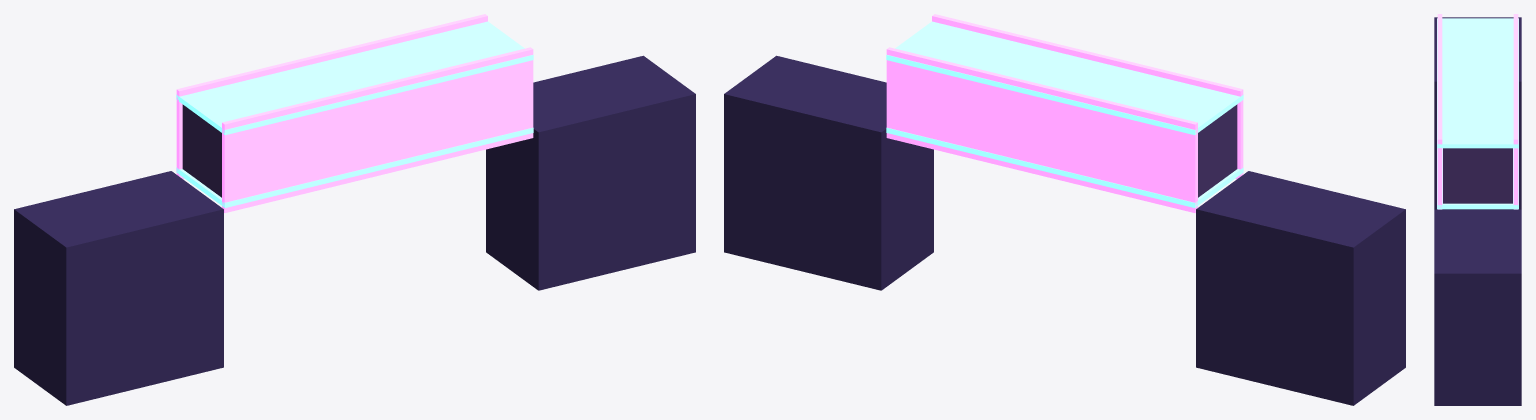
Rendered from 09_transit_tube_connector.glb.
3 renders of one model, left to right at view 1: azimuth 30°, elevation 25°; view 2: azimuth 150°, elevation 25°; view 3: azimuth 270°, elevation 25°, orthographic. The views are drawn at different scales.
Parts seen in each view (by area): view 1: dock_left_0, dock_right_1, tube_side_glow_6, tube_top_glow_3, tube_side_glow_5, tube_core_2, tube_bottom_glow_4; view 2: dock_left_0, dock_right_1, tube_side_glow_5, tube_top_glow_3, tube_side_glow_6, tube_core_2, tube_bottom_glow_4; view 3: dock_right_1, tube_top_glow_3, tube_core_2, dock_left_0, tube_side_glow_6, tube_side_glow_5, tube_bottom_glow_4.
Part boxes in pixels (x1=…): dock_left_0: x1=14, y1=171, x2=223, y2=405; dock_right_1: x1=486, y1=55, x2=695, y2=290; tube_side_glow_6: x1=222, y1=47, x2=533, y2=212; tube_top_glow_3: x1=176, y1=21, x2=533, y2=135; tube_side_glow_5: x1=176, y1=14, x2=487, y2=178; tube_core_2: x1=182, y1=104, x2=221, y2=197; tube_bottom_glow_4: x1=176, y1=127, x2=533, y2=207; dock_left_0: x1=1196, y1=171, x2=1405, y2=405; dock_right_1: x1=724, y1=55, x2=933, y2=290; tube_side_glow_5: x1=886, y1=47, x2=1197, y2=212; tube_top_glow_3: x1=886, y1=21, x2=1243, y2=135; tube_side_glow_6: x1=932, y1=14, x2=1243, y2=178; tube_core_2: x1=1198, y1=104, x2=1237, y2=197; tube_bottom_glow_4: x1=886, y1=127, x2=1243, y2=207; dock_right_1: x1=1434, y1=209, x2=1521, y2=405; tube_top_glow_3: x1=1437, y1=18, x2=1518, y2=148; tube_core_2: x1=1443, y1=148, x2=1512, y2=203; dock_left_0: x1=1434, y1=17, x2=1521, y2=209; tube_side_glow_6: x1=1437, y1=14, x2=1442, y2=209; tube_side_glow_5: x1=1513, y1=14, x2=1518, y2=209; tube_bottom_glow_4: x1=1437, y1=148, x2=1518, y2=209.
Size of the model in its own units: 20.8 by 7.6 by 3.
